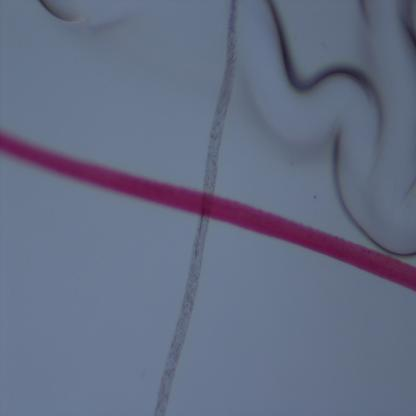Background material: (248, 0, 416, 258), (33, 0, 129, 32)
Hair textile: (0, 128, 416, 292)
Microfibre: (154, 0, 238, 416)
